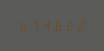four: (40, 20, 50, 31)
seven: (28, 20, 38, 31)
six: (17, 20, 27, 31), (51, 20, 61, 31)
two: (62, 20, 72, 31), (73, 20, 83, 31)
